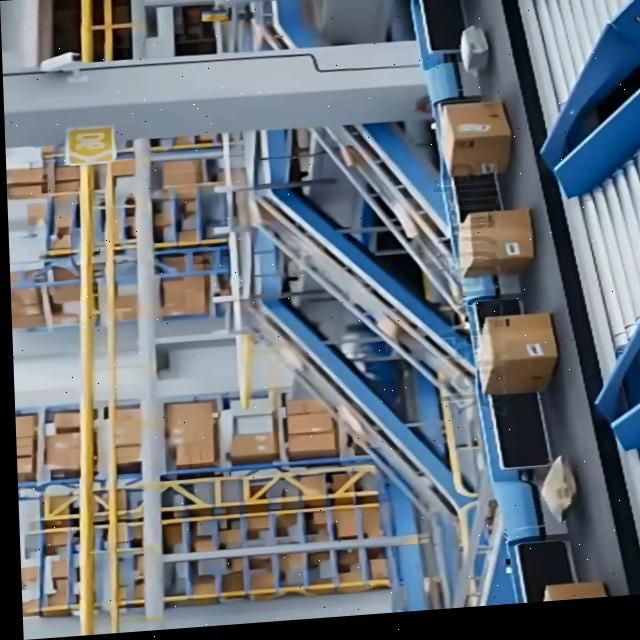product 1: (475, 310, 560, 396), (438, 98, 513, 177), (456, 206, 536, 278)
product 2: (458, 23, 492, 77)
